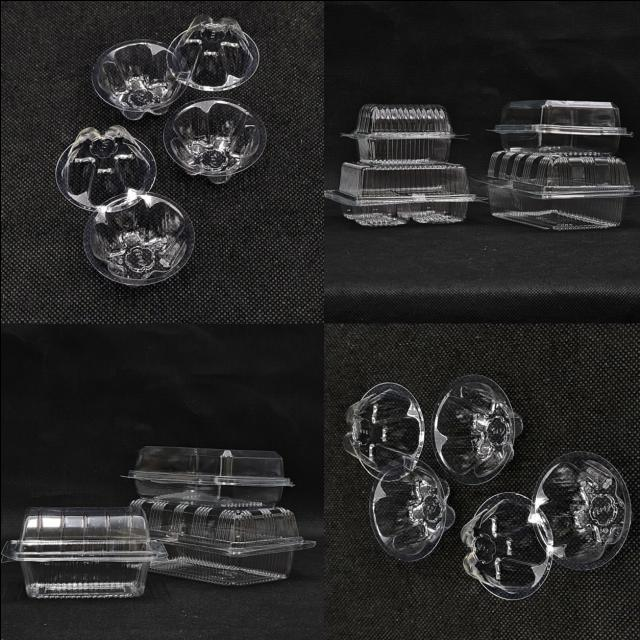plastik: (130, 497, 313, 584), (0, 506, 166, 596), (485, 149, 640, 229), (532, 450, 631, 569), (83, 191, 193, 284), (430, 374, 522, 484), (461, 492, 551, 599), (324, 162, 475, 225), (128, 445, 291, 502), (369, 455, 454, 560), (55, 125, 155, 210), (342, 381, 424, 481), (164, 98, 266, 178), (91, 39, 185, 119), (493, 101, 631, 153), (170, 14, 258, 90), (345, 103, 454, 162)
